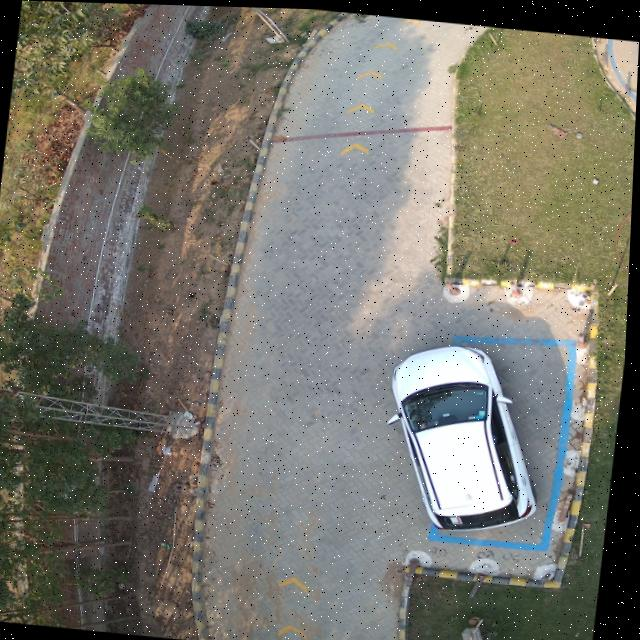car: (394, 341, 542, 527)
